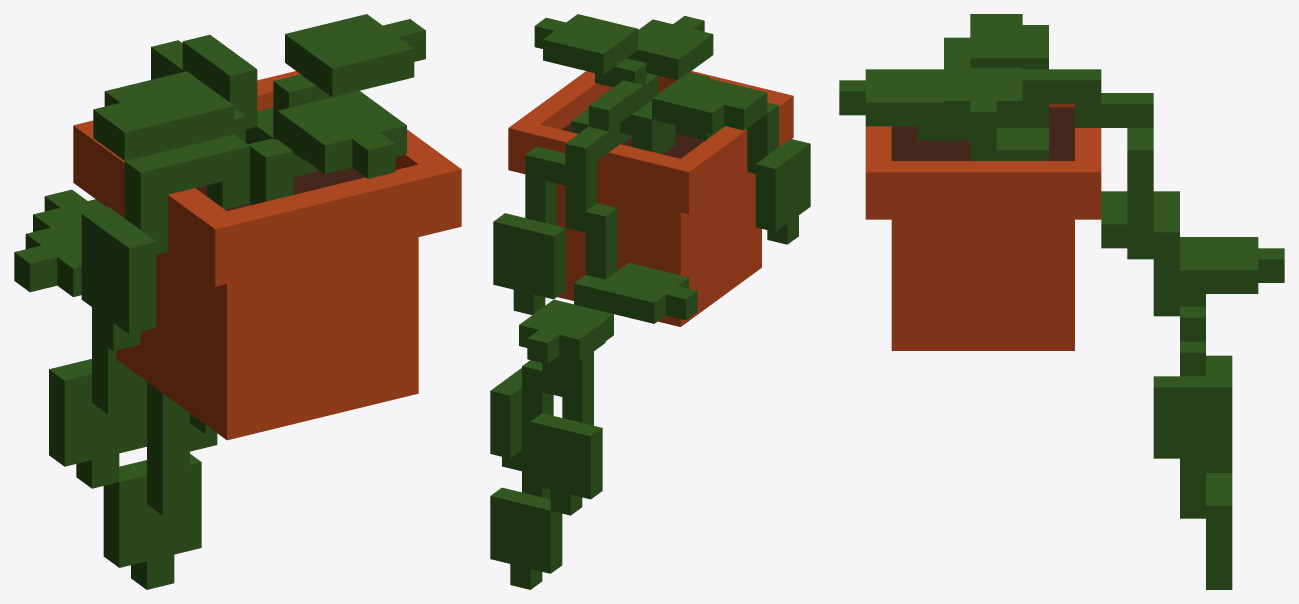
Rendered from plant_pothos.glb.
The picture shows the model from 3 angles, left to right: view 1: azimuth 30°, elevation 25°; view 2: azimuth 150°, elevation 25°; view 3: azimuth 270°, elevation 25°; orthographic projection. The views are drawn at different scales.
Parts seen in each view (by area): view 1: Untitled; view 2: Untitled; view 3: Untitled.
Part boxes in pixels (x1,y1,x2,y2): Untitled: [14, 14, 461, 589]; Untitled: [490, 14, 810, 589]; Untitled: [839, 14, 1284, 589].
Bounding box in the file's own units: 0.36 × 0.66 × 0.51.
1 material, 1 textured.
